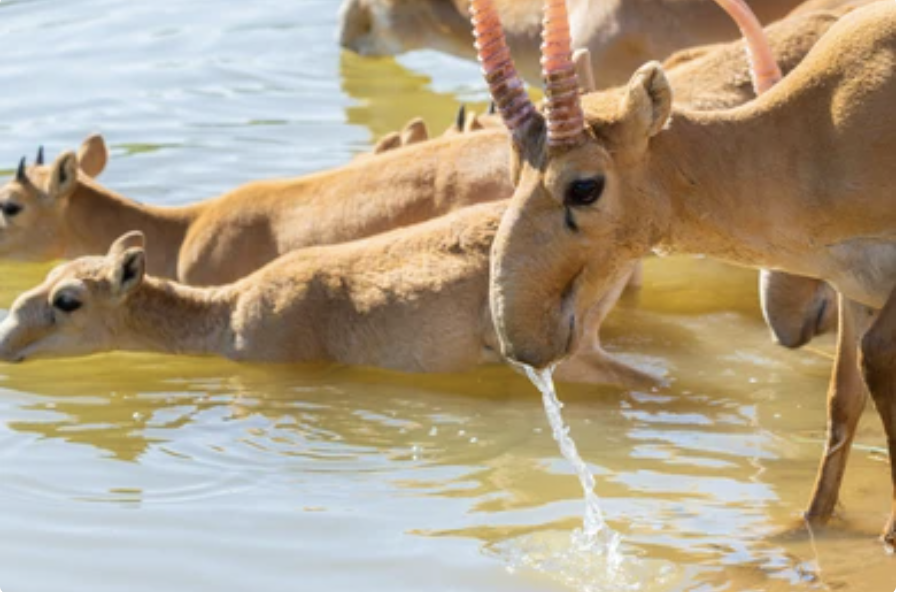saiga: (457, 7, 900, 550)
